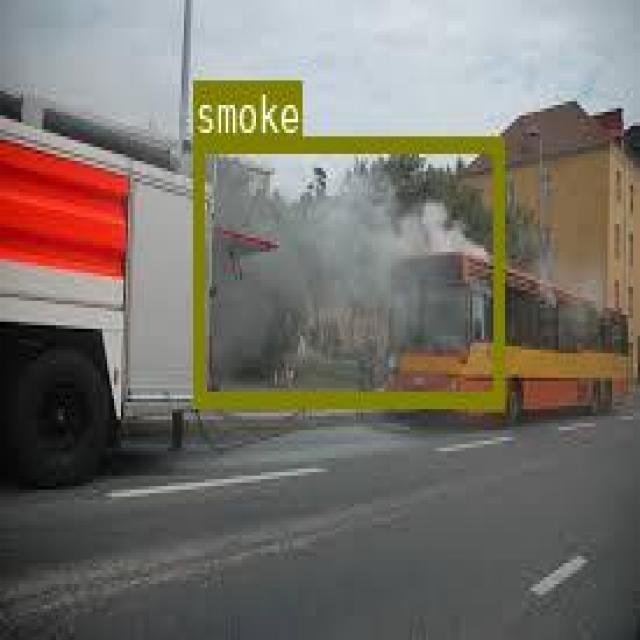smoke: (192, 136, 503, 404)
